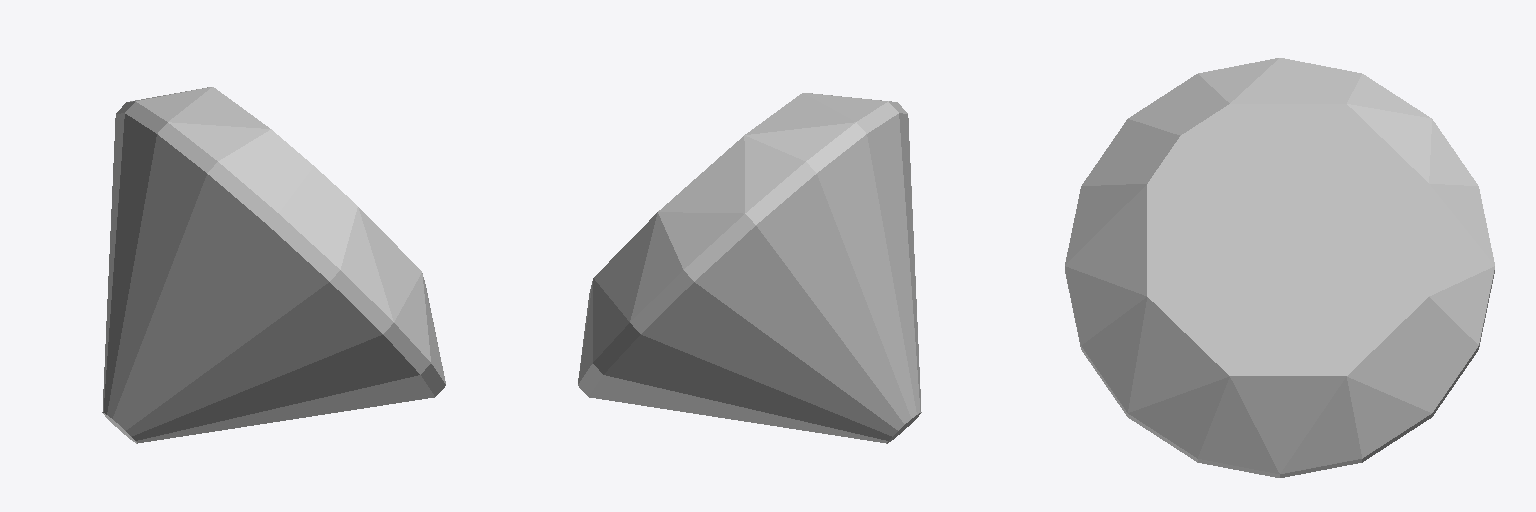
Rendered from diamond.obj.
The picture shows the model from 3 angles: view 1: azimuth 30°, elevation 25°; view 2: azimuth 150°, elevation 25°; view 3: azimuth 270°, elevation 25°; orthographic projection.
Parts seen in each view (by area): view 1: diamond; view 2: diamond; view 3: diamond.
Part boxes in pixels (left/top/right/bottom): diamond: left=102, top=87, right=445, bottom=443; diamond: left=578, top=93, right=921, bottom=443; diamond: left=1065, top=58, right=1494, bottom=477.
Size of the model in its own units: 0.8778 by 0.8742 by 1.1.